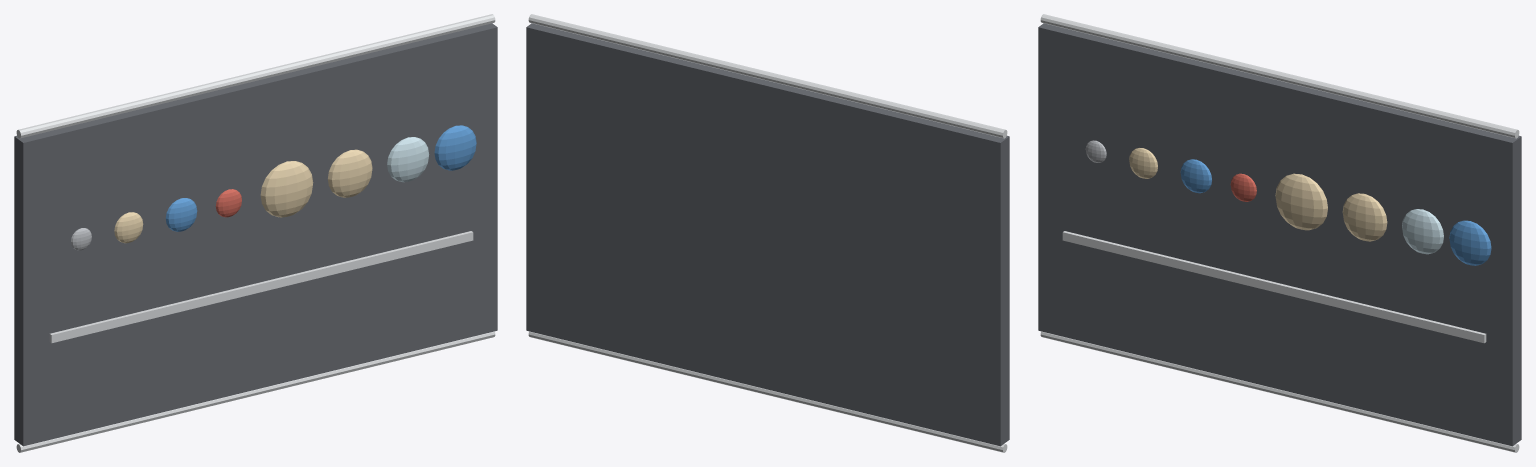
The model's file is solar-system-and-astronauts-planet-scale-chart-panel-3ebac823__39257.glb.
The picture shows the model from 3 angles, left to right: view 1: azimuth 30°, elevation 25°; view 2: azimuth 150°, elevation 25°; view 3: azimuth 330°, elevation 25°; orthographic projection.
Visible parts, largest first — view 1: planet-scale-chart-panel; view 2: planet-scale-chart-panel; view 3: planet-scale-chart-panel.
Part boxes in pixels (x1,y1,x2,y2): planet-scale-chart-panel: [14, 14, 497, 452]; planet-scale-chart-panel: [526, 14, 1009, 452]; planet-scale-chart-panel: [1038, 14, 1521, 452].
Size of the model in its own units: 1.8 by 1.17 by 0.0941.
